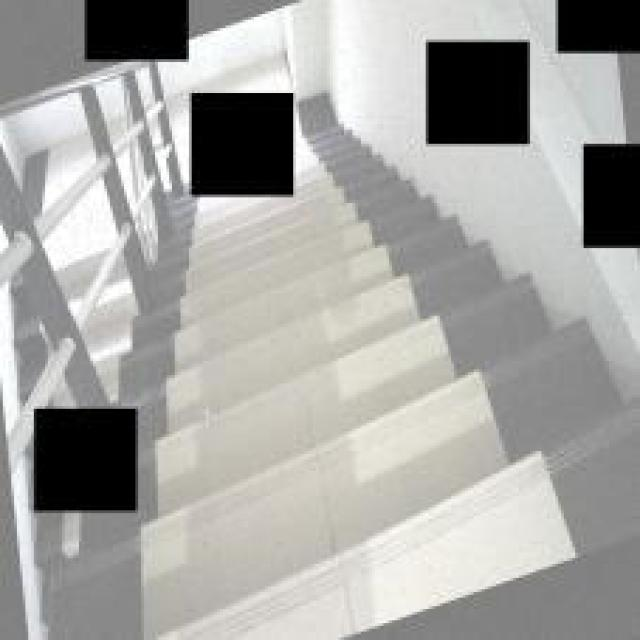downstair: (210, 261, 520, 639)
